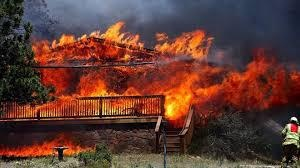fire: (1, 136, 94, 157)
